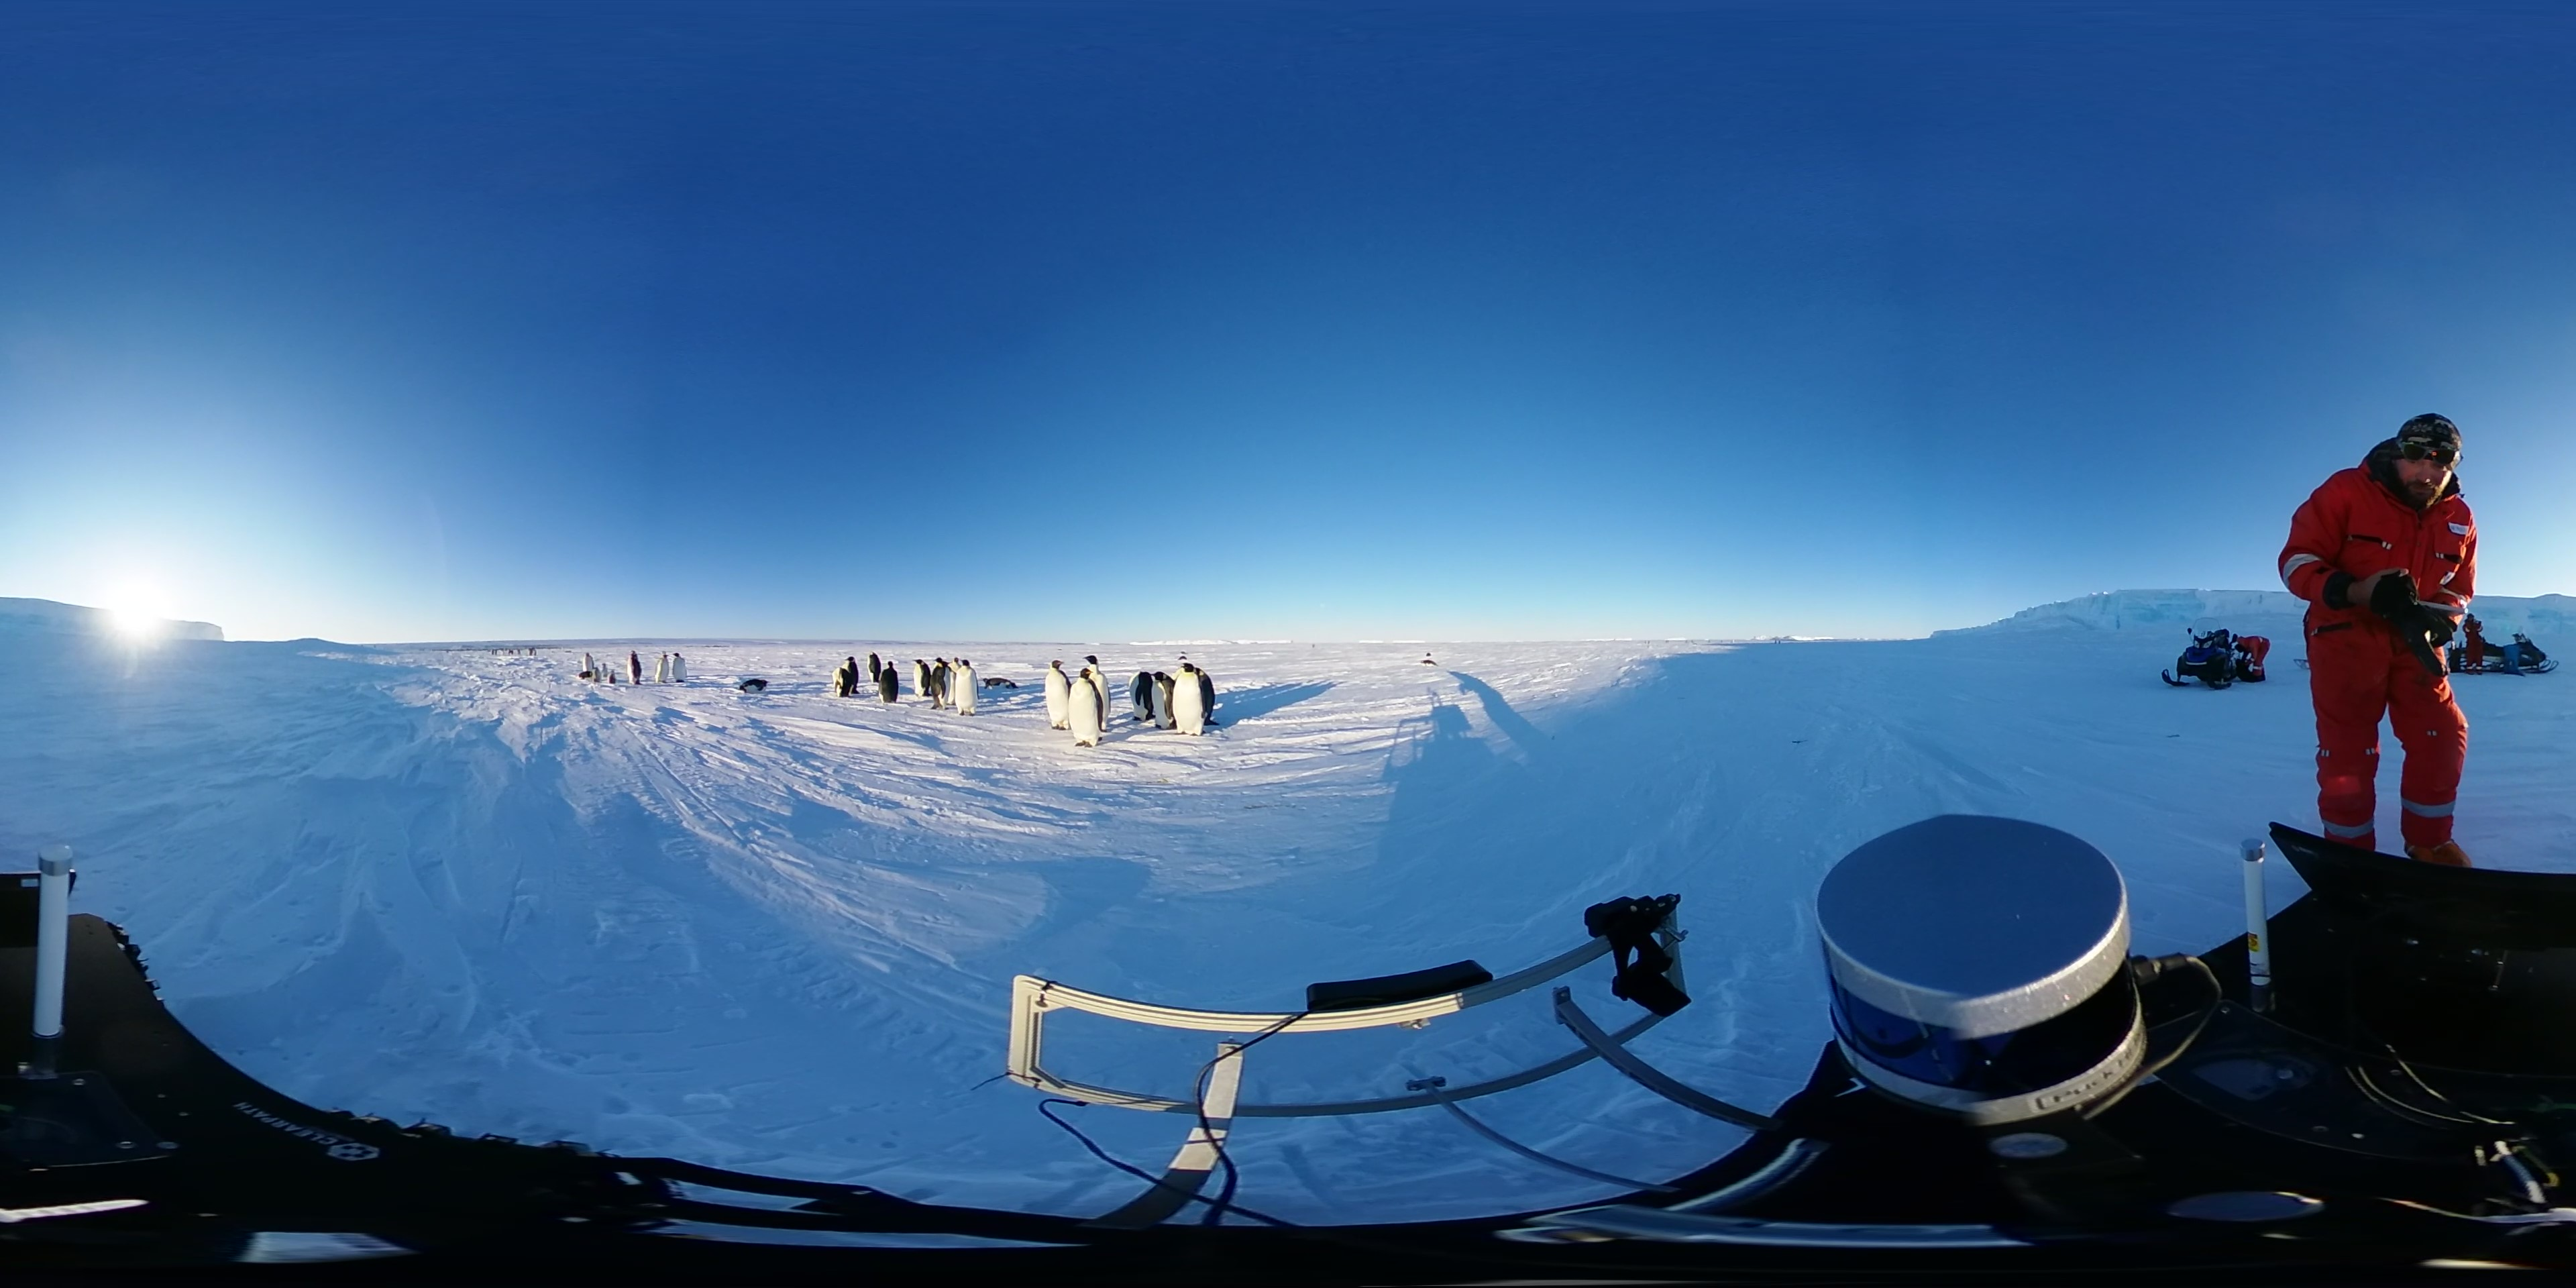adult_standing_penguin: (1171, 659, 1214, 741), (1068, 667, 1107, 749), (1042, 657, 1079, 734), (954, 657, 982, 718), (879, 659, 900, 706), (910, 655, 930, 700), (672, 649, 692, 687)
adult_toboggan_penguin: (979, 670, 1023, 695), (734, 677, 772, 698)
researcher: (2280, 404, 2487, 894), (2229, 629, 2272, 685), (2458, 608, 2489, 678)
